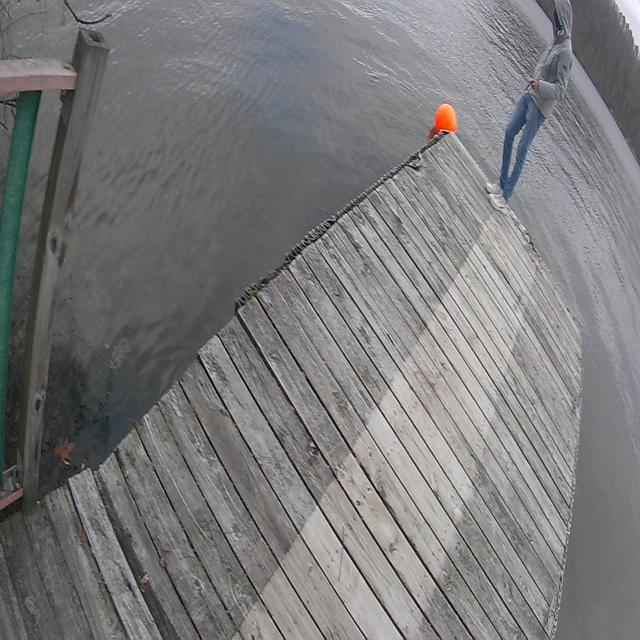Buoy: (435, 95, 461, 142)
